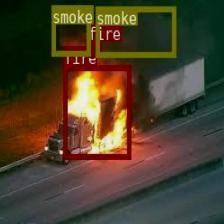fire: (63, 65, 130, 159), (87, 40, 100, 57)
smoke: (95, 6, 175, 57), (51, 4, 90, 55)
